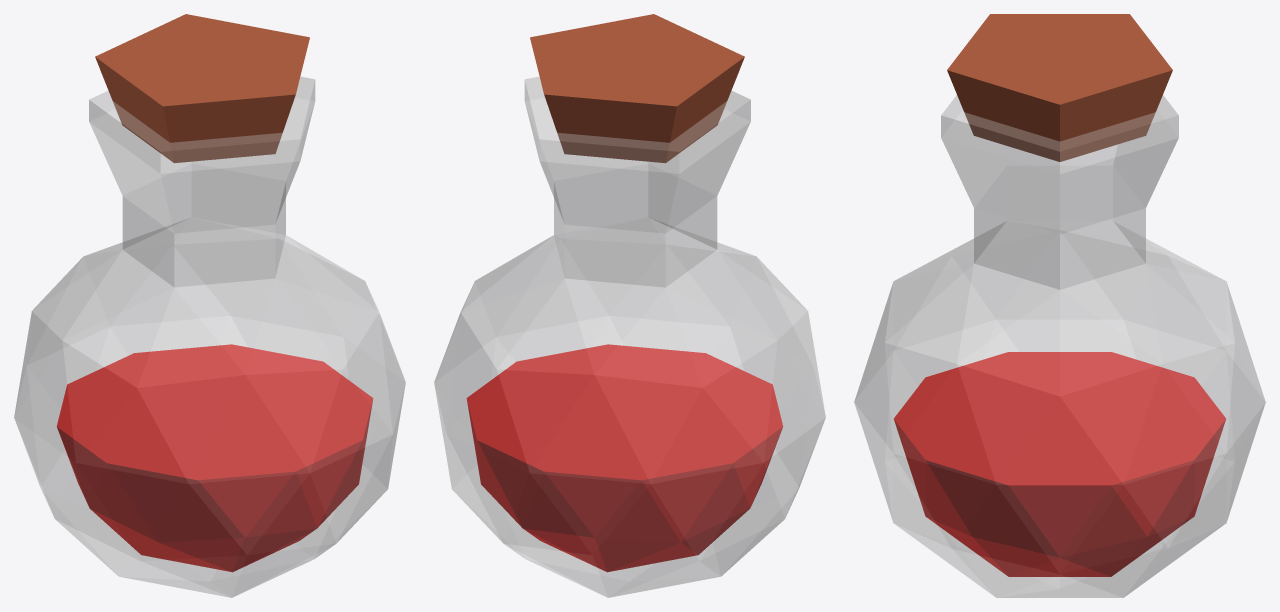
Rendered from pocionVida.fbx.
3 renders of one model, left to right at view 1: azimuth 30°, elevation 25°; view 2: azimuth 150°, elevation 25°; view 3: azimuth 270°, elevation 25°, orthographic. The views are drawn at different scales.
Parts seen in each view (by area): view 1: Botella, Liquido, Corcho; view 2: Botella, Liquido, Corcho; view 3: Botella, Liquido, Corcho.
Boxes of the visible parts, x1=… form: Botella: x1=14, y1=76, x2=405, y2=597; Liquido: x1=57, y1=344, x2=373, y2=572; Corcho: x1=95, y1=14, x2=309, y2=163; Botella: x1=434, y1=76, x2=825, y2=597; Liquido: x1=466, y1=344, x2=782, y2=572; Corcho: x1=530, y1=14, x2=744, y2=163; Botella: x1=854, y1=95, x2=1265, y2=597; Liquido: x1=894, y1=352, x2=1225, y2=576; Corcho: x1=947, y1=14, x2=1172, y2=161.
Size of the model in its own units: 66.22 by 99.68 by 69.63.
